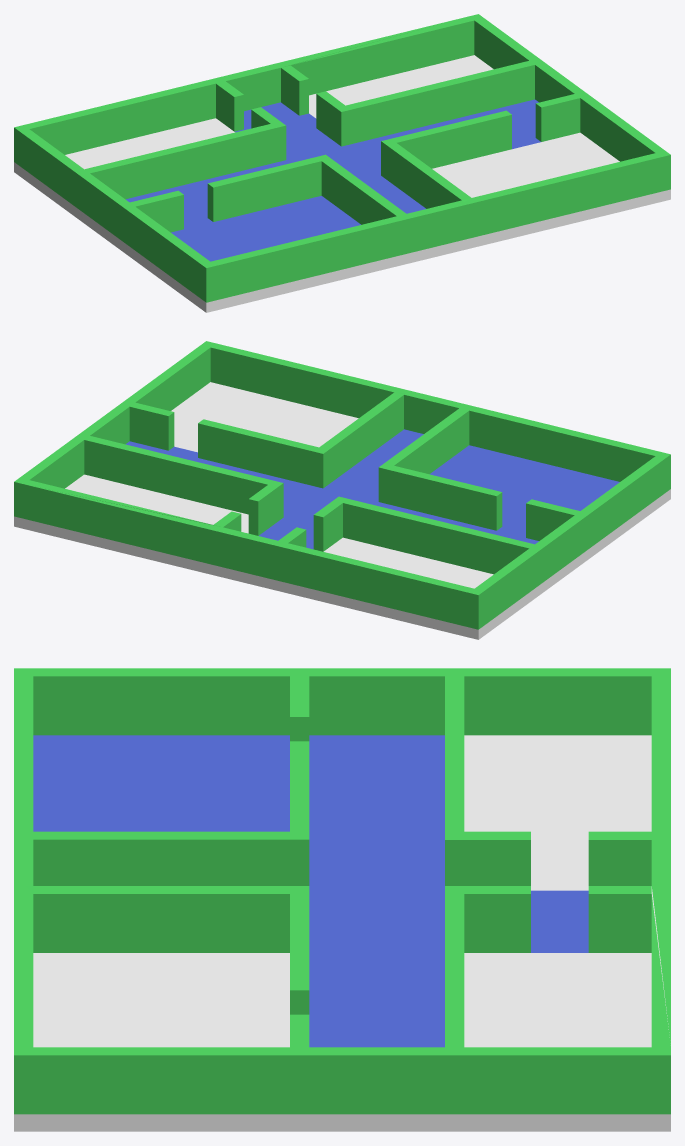
3 renders of one model, top to bottom at view 1: azimuth 30°, elevation 25°; view 2: azimuth 150°, elevation 25°; view 3: azimuth 270°, elevation 25°, orthographic. The views are drawn at different scales.
Parts seen in each view (by area): view 1: Wall11, Wall9, Scene, Wall1, Wall12, Wall7, Wall5, Wall4, Floor2, Wall10, Floor3, Floor4 (+5 smaller); view 2: Wall9, Wall11, Scene, Wall4, Wall12, Wall1, Wall7, Wall5, Floor2, Floor3, Wall10, Floor4 (+3 smaller); view 3: Scene, Wall10, Wall12, Floor2, Floor3, Floor1, Wall4, Floor4, Wall5, Wall7, Wall11, Wall1 (+5 smaller).
Boxes of the visible parts, box(x1,y1,x2,y2) form: Wall11: box(206, 153, 670, 302); Wall9: box(14, 14, 478, 154); Scene: box(14, 99, 670, 312); Wall1: box(316, 60, 534, 146); Wall12: box(14, 82, 218, 302); Wall7: box(85, 107, 286, 199); Wall5: box(207, 154, 406, 224); Wall4: box(381, 110, 511, 208); Floor2: box(171, 196, 360, 261); Wall10: box(474, 14, 670, 161); Floor3: box(432, 132, 619, 197); Floor4: box(304, 55, 493, 122); Wall9: box(14, 480, 483, 629); Wall11: box(206, 341, 669, 481); Scene: box(14, 429, 670, 639); Wall4: box(198, 392, 403, 488); Wall12: box(284, 454, 670, 629); Wall1: box(84, 436, 283, 535); Wall7: box(313, 496, 534, 574); Wall5: box(378, 408, 502, 530); Floor2: box(430, 445, 619, 534); Floor3: box(171, 382, 358, 454); Wall10: box(14, 341, 210, 488); Floor4: box(65, 474, 248, 533); Scene: box(14, 735, 670, 1131); Wall10: box(14, 1047, 670, 1114); Wall12: box(15, 668, 669, 838); Floor2: box(33, 735, 289, 831); Floor3: box(33, 953, 289, 1047); Floor1: box(464, 735, 652, 894); Wall4: box(33, 886, 309, 1014); Floor4: box(464, 949, 669, 1047); Wall5: box(33, 741, 309, 885); Wall7: box(445, 676, 530, 885); Wall11: box(14, 668, 182, 1054); Wall1: box(445, 886, 530, 1047).
Size of the model in its own units: 47.64 by 4.39 by 34.17.
